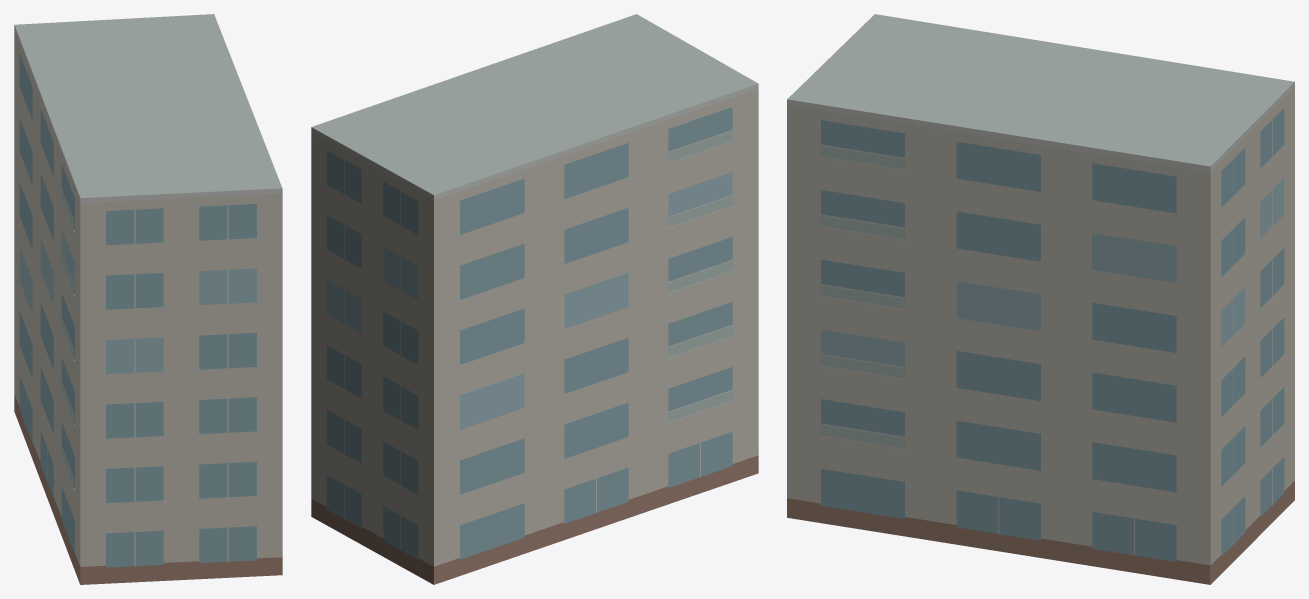
File: survey-upis-32968157.glb
3 renders of one model, left to right at view 1: azimuth 30°, elevation 25°; view 2: azimuth 150°, elevation 25°; view 3: azimuth 270°, elevation 25°, orthographic. The views are drawn at different scales.
Visible parts, largest first — view 1: survey-upis-32968157.tmp; view 2: survey-upis-32968157.tmp; view 3: survey-upis-32968157.tmp.
Part boxes in pixels (x1=…): survey-upis-32968157.tmp: x1=14, y1=14, x2=282, y2=584; survey-upis-32968157.tmp: x1=311, y1=14, x2=758, y2=584; survey-upis-32968157.tmp: x1=787, y1=14, x2=1294, y2=584.
Size of the model in its own units: 14.55 by 18.6 by 20.47.
